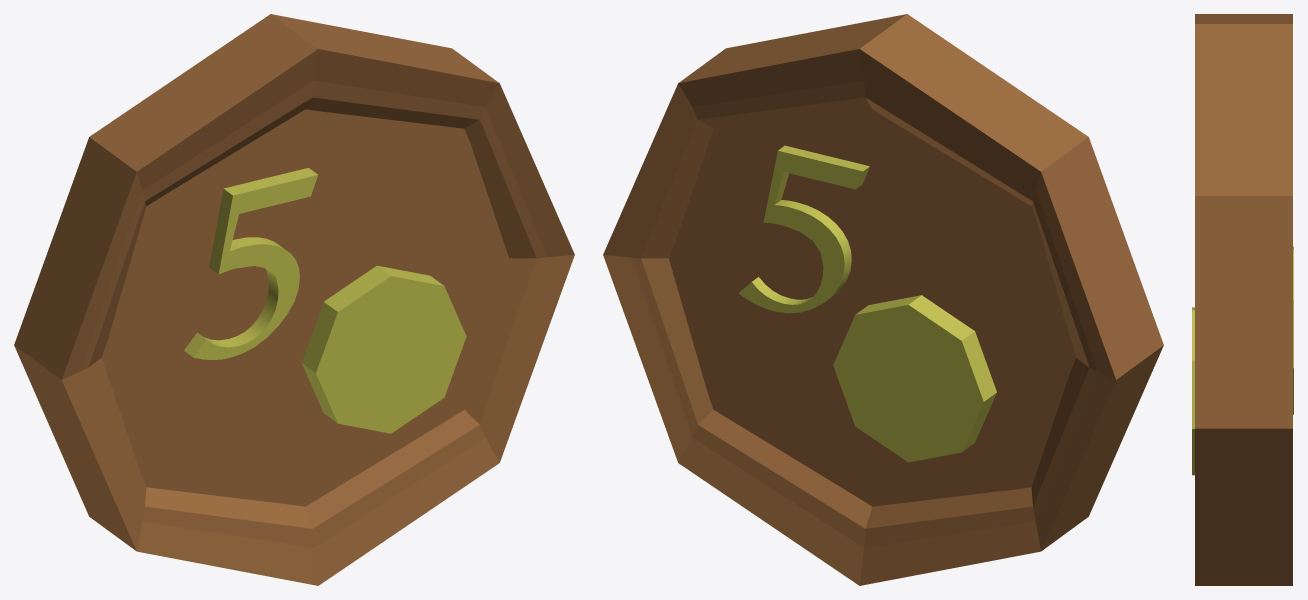
File: 5Cents.fbx
3 renders of one model, left to right at view 1: azimuth 30°, elevation 25°; view 2: azimuth 150°, elevation 25°; view 3: azimuth 270°, elevation 25°, orthographic. The views are drawn at different scales.
Parts seen in each view (by area): view 1: pCylinder5, typeMesh7; view 2: pCylinder5, polySurface2; view 3: pCylinder5, typeMesh7, polySurface2.
Boxes of the visible parts, x1,y1,x2,y2 form: pCylinder5: [14, 14, 574, 585]; typeMesh7: [184, 168, 466, 433]; pCylinder5: [603, 14, 1163, 585]; polySurface2: [738, 145, 996, 462]; pCylinder5: [1195, 14, 1292, 585]; typeMesh7: [1192, 307, 1194, 475]; polySurface2: [1293, 246, 1293, 414].
Bounding box in the file's own units: 4 × 4 × 0.6681.
